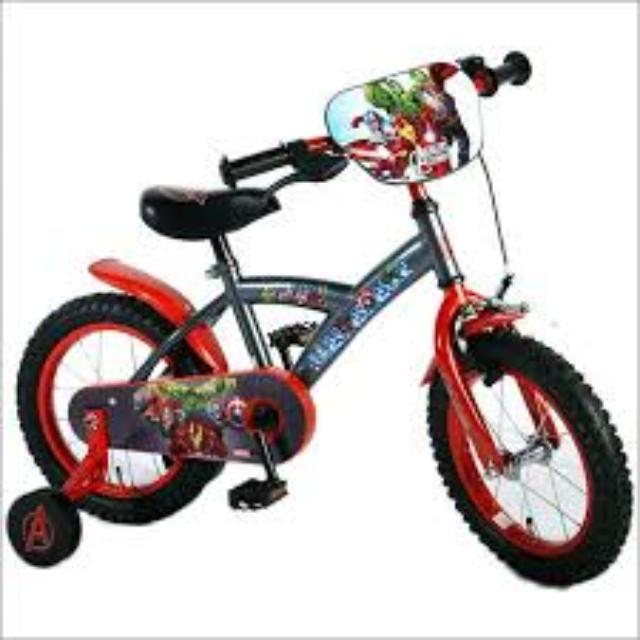obstacle: (16, 35, 640, 612)
